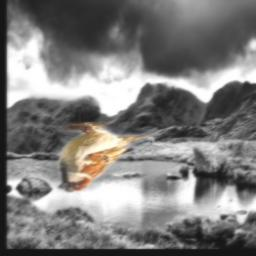Sparrow: (59, 122, 159, 193)
